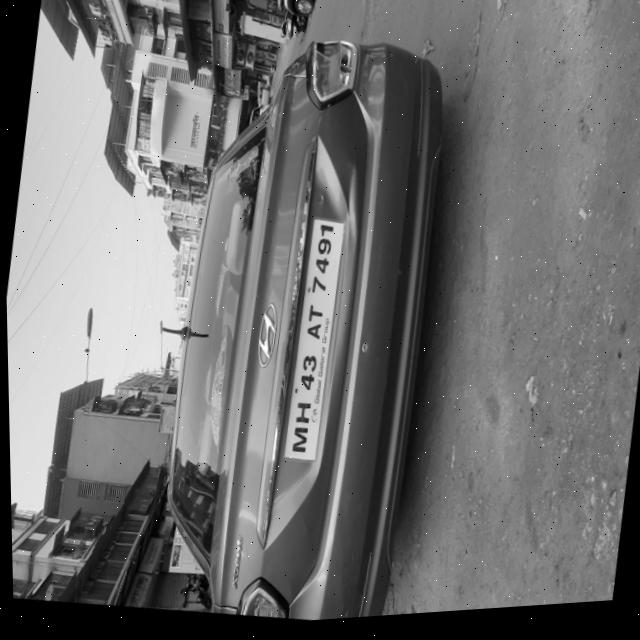car: (7, 399, 258, 629)
